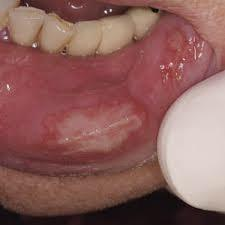Discoloration: (54, 36, 77, 62), (89, 40, 113, 63), (29, 27, 48, 54)
Ulcer: (43, 102, 151, 161), (158, 26, 213, 85)
